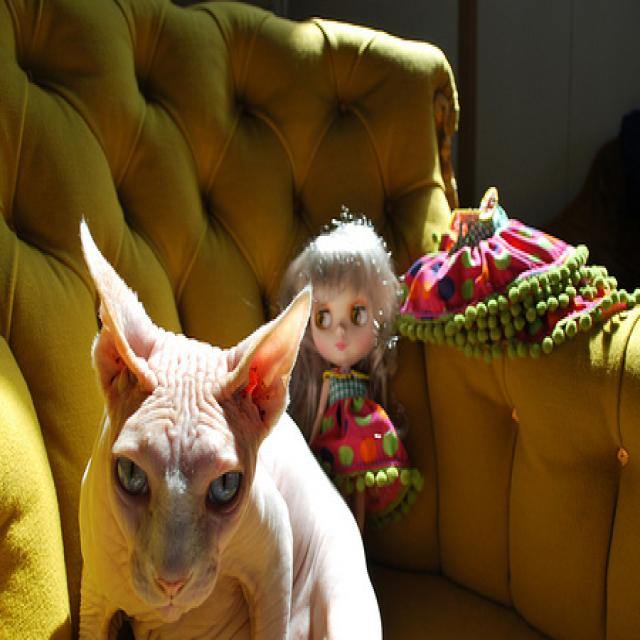Sphynx: (72, 212, 385, 640)
